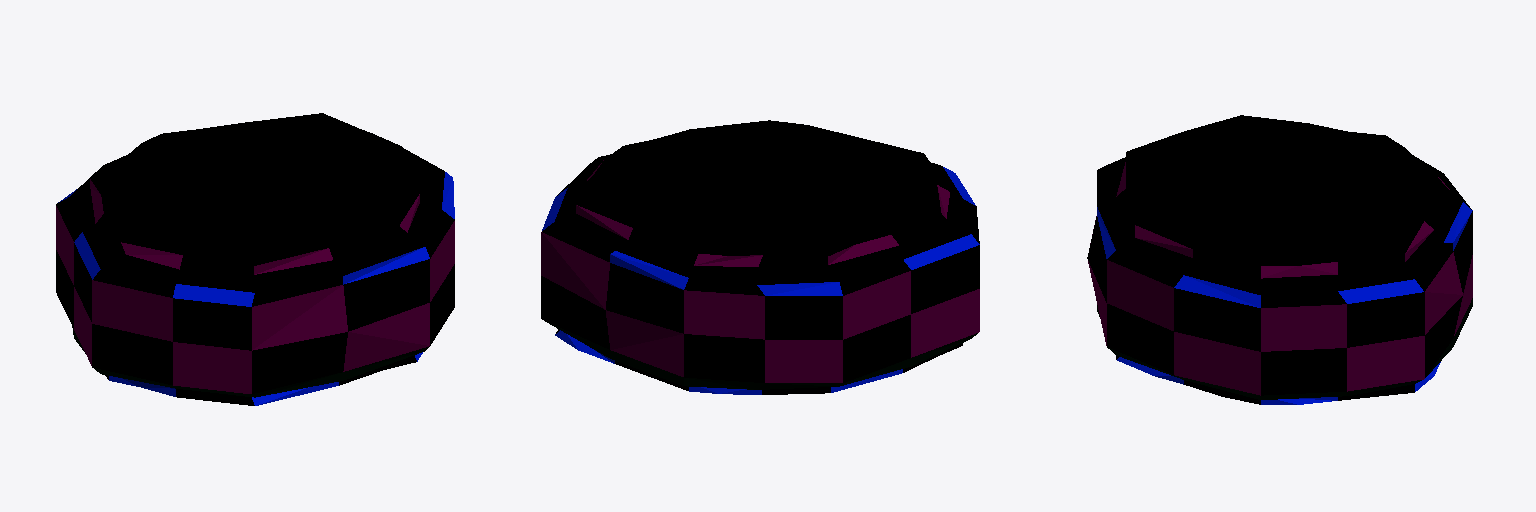
Rendered from world.obj.
3 renders of one model, left to right at view 1: azimuth 30°, elevation 25°; view 2: azimuth 150°, elevation 25°; view 3: azimuth 270°, elevation 25°, orthographic.
Visible parts, largest first — view 1: Plane; view 2: Plane; view 3: Plane.
Part boxes in pixels (left/top/right/bottom): Plane: left=56, top=113, right=454, bottom=405; Plane: left=541, top=120, right=979, bottom=394; Plane: left=1087, top=115, right=1472, bottom=404.
Size of the model in its own units: 45 by 15 by 40.